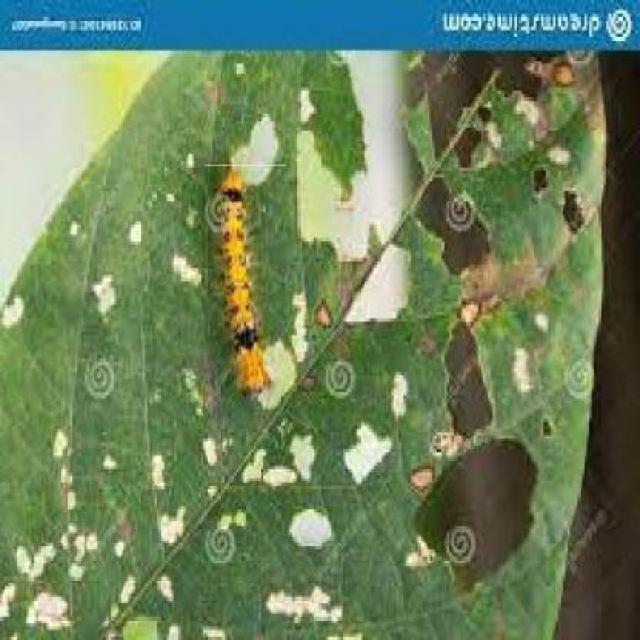Plaga: (206, 166, 289, 413)
